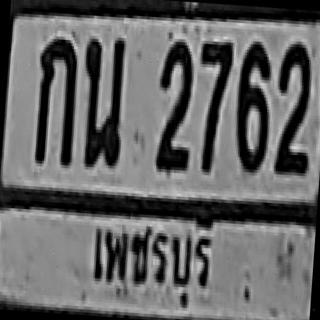A01: (32, 35, 82, 170)
A25: (77, 33, 129, 174)
N02: (152, 38, 197, 173), (272, 38, 316, 175)
N06: (231, 37, 276, 175)
N07: (192, 37, 236, 175)
P44: (82, 208, 223, 311)
